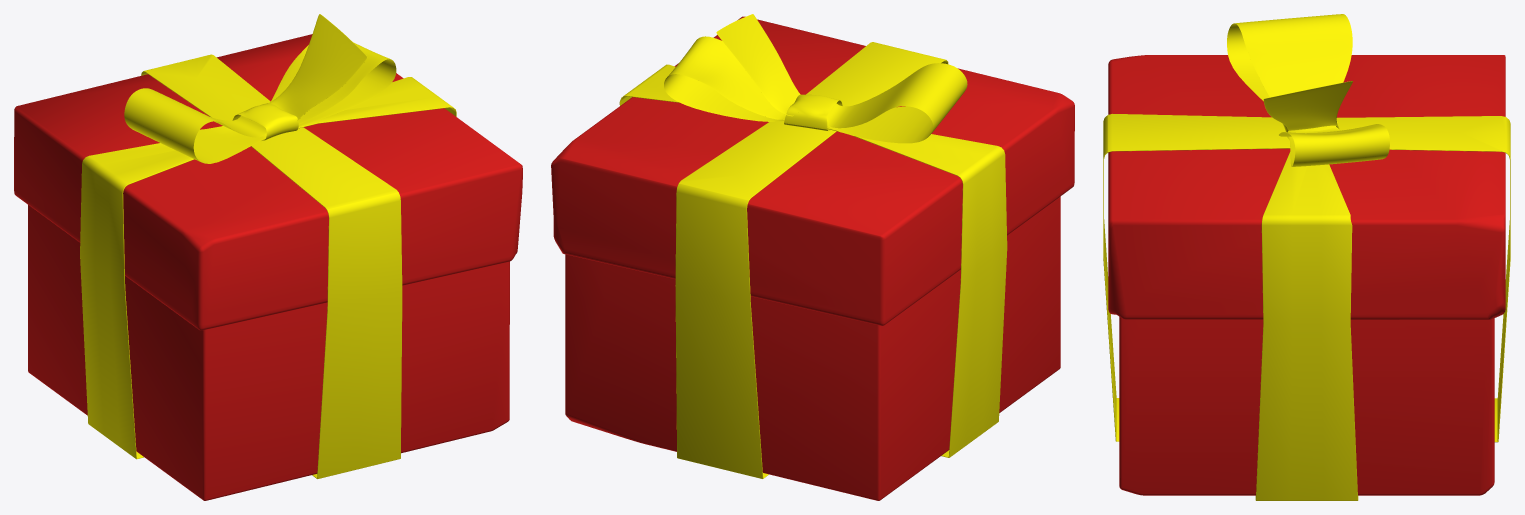
3 renders of one model, left to right at view 1: azimuth 30°, elevation 25°; view 2: azimuth 150°, elevation 25°; view 3: azimuth 270°, elevation 25°, orthographic. The views are drawn at different scales.
Parts seen in each view (by area): view 1: box lid, box, gift tape, bow; view 2: box lid, box, gift tape, bow; view 3: box lid, box, gift tape, bow.
Boxes of the visible parts, left/top/right/bottom form: box lid: left=14, top=34, right=522, bottom=330; box: left=28, top=205, right=509, bottom=500; gift tape: left=80, top=54, right=456, bottom=478; bow: left=124, top=14, right=396, bottom=163; box lid: left=551, top=16, right=1074, bottom=325; box: left=565, top=196, right=1060, bottom=500; gift tape: left=619, top=42, right=1007, bottom=478; bow: left=664, top=14, right=967, bottom=143; box lid: left=1108, top=55, right=1505, bottom=319; box: left=1119, top=317, right=1494, bottom=495; gift tape: left=1103, top=113, right=1510, bottom=500; bow: left=1227, top=14, right=1389, bottom=166.
Size of what is drawn, in the model's own units: 0.8817 by 0.9004 by 0.8817.
